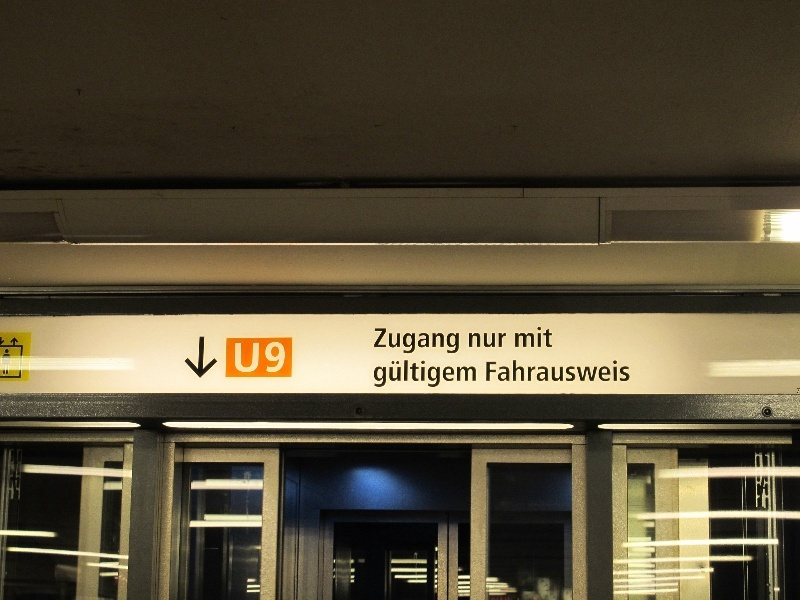text: (241, 343, 256, 374), (385, 359, 400, 389), (401, 359, 416, 389), (417, 359, 432, 389), (433, 359, 448, 389), (449, 359, 464, 389), (385, 328, 400, 356), (401, 328, 416, 356), (417, 328, 432, 356), (433, 328, 448, 356), (273, 343, 286, 374), (497, 358, 512, 384), (513, 358, 528, 384), (529, 358, 544, 384), (545, 358, 560, 384), (561, 358, 576, 384), (577, 358, 592, 384), (593, 358, 608, 384), (609, 358, 624, 384), (529, 324, 544, 349), (465, 359, 477, 389), (515, 324, 528, 349), (449, 328, 460, 356), (374, 359, 384, 389), (486, 358, 496, 384), (375, 328, 384, 356), (481, 333, 496, 349), (265, 343, 272, 374), (545, 324, 553, 349), (469, 333, 480, 349), (497, 333, 508, 349), (625, 358, 631, 384), (235, 343, 240, 374), (257, 343, 260, 374)
